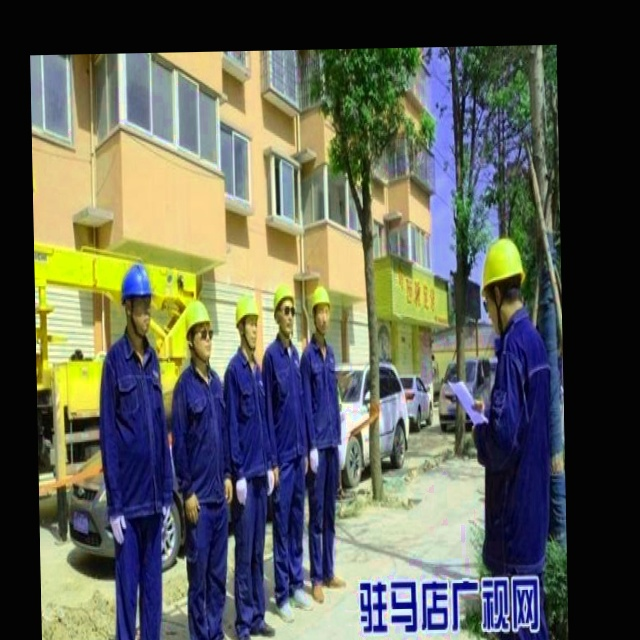Sin_Chaleco: (99, 339, 171, 519), (168, 361, 230, 505)
